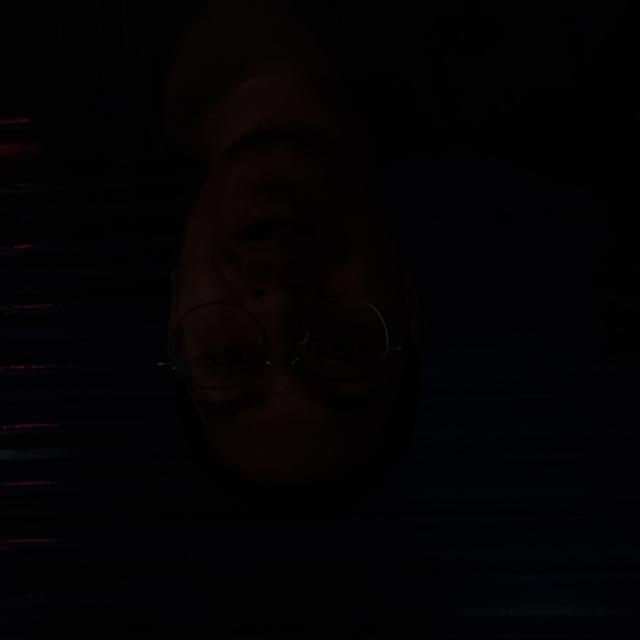Surprised: (150, 153, 425, 483)
